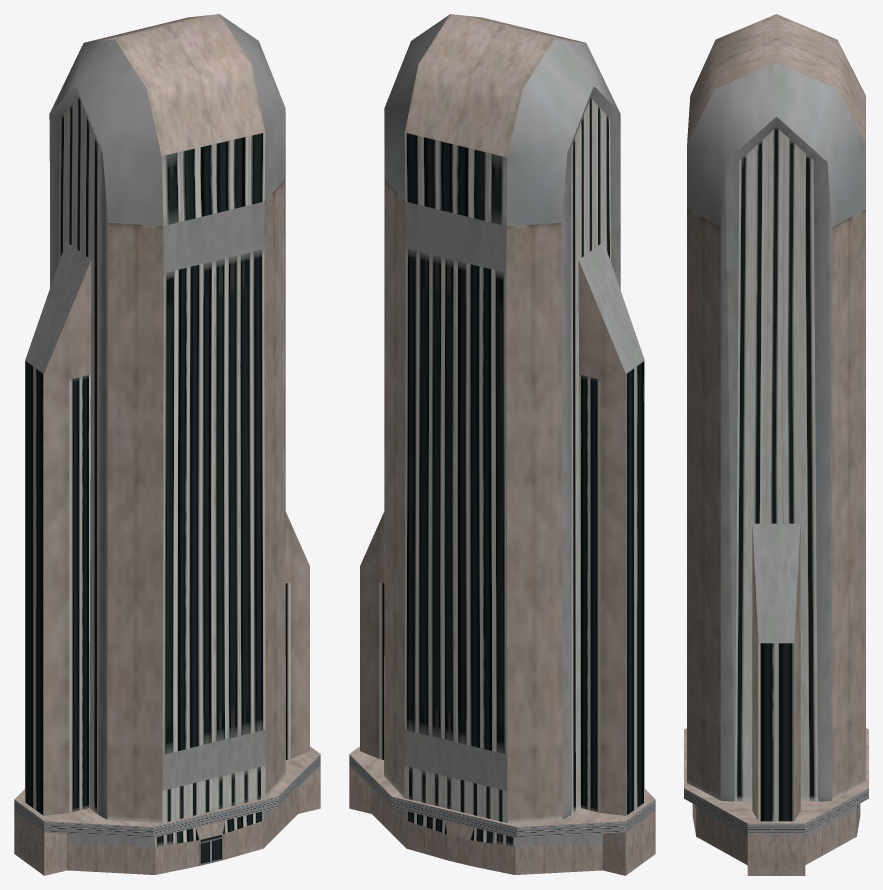
The model's file is thm_corl_skyskraper_s04_r0_mesh_l3.fbx.
The picture shows the model from 3 angles, left to right: view 1: azimuth 30°, elevation 25°; view 2: azimuth 150°, elevation 25°; view 3: azimuth 270°, elevation 25°; orthographic projection. The views are drawn at different scales.
Parts seen in each view (by area): view 1: mesh_node; view 2: mesh_node; view 3: mesh_node.
Boxes of the visible parts, x1=… form: mesh_node: x1=14, y1=14, x2=320, y2=875; mesh_node: x1=349, y1=14, x2=655, y2=875; mesh_node: x1=684, y1=14, x2=868, y2=875.
Size of the model in its own units: 53 by 148 by 32.
1 material, 1 textured.
